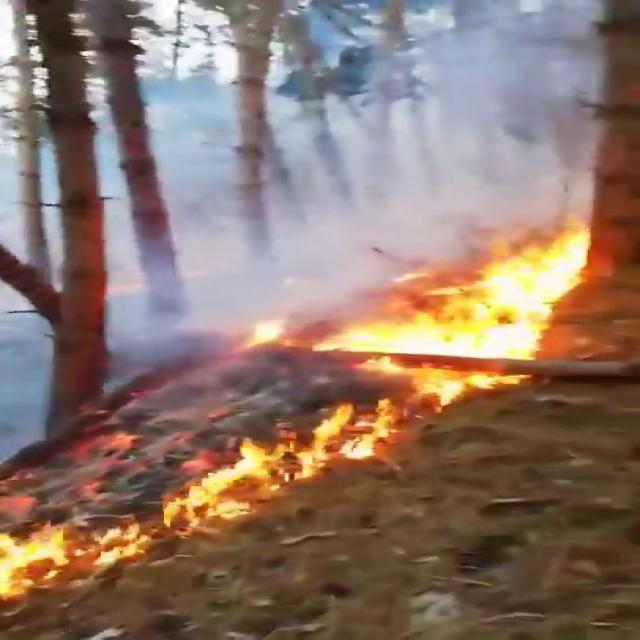Fire: (172, 214, 629, 518), (0, 512, 153, 601)
Smoke: (138, 1, 636, 326)
